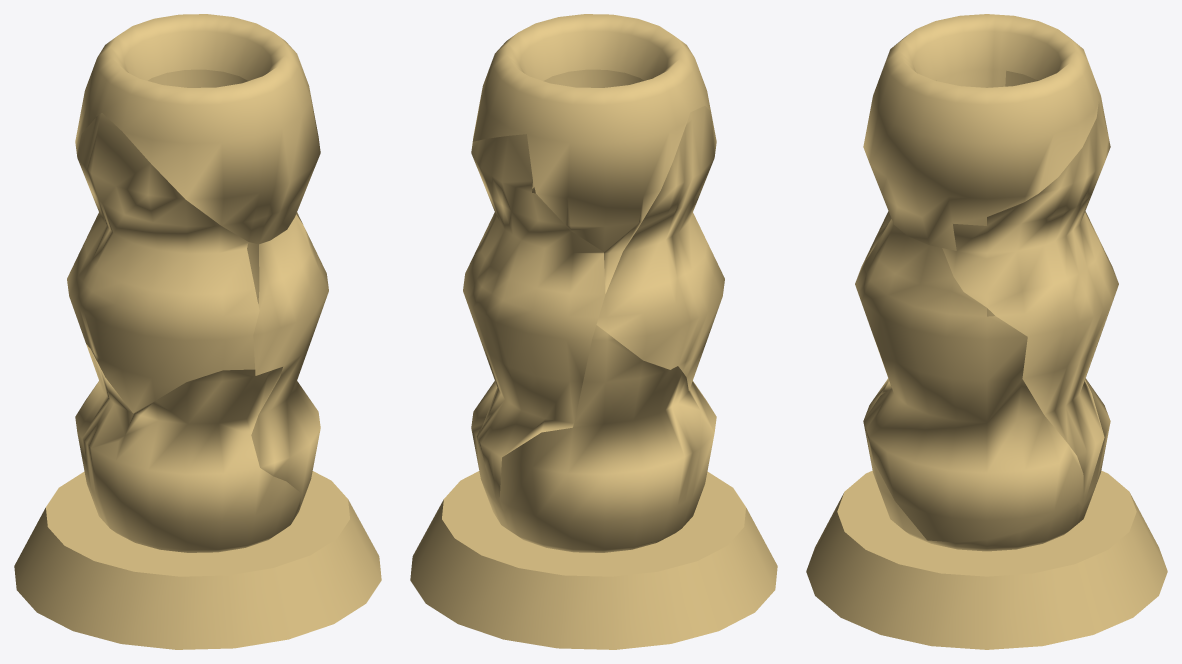
File: Pottery1_broken.fbx
3 renders of one model, left to right at view 1: azimuth 30°, elevation 25°; view 2: azimuth 150°, elevation 25°; view 3: azimuth 270°, elevation 25°, orthographic.
Parts seen in each view (by area): view 1: pCylinder1.006, pCylinder1.001, pCylinder1.004, pCylinder1, pCylinder1.003, pCylinder1.005; view 2: pCylinder1.006, pCylinder1.001, pCylinder1, pCylinder1.002, pCylinder1.004, pCylinder1.007, pCylinder1.003; view 3: pCylinder1.003, pCylinder1.001, pCylinder1.006, pCylinder1.002, pCylinder1.
Boxes of the visible parts, x1=… form: pCylinder1.006: x1=14, y1=471, x2=381, y2=649; pCylinder1.001: x1=75, y1=14, x2=320, y2=244; pCylinder1.004: x1=67, y1=113, x2=259, y2=413; pCylinder1: x1=75, y1=344, x2=301, y2=552; pCylinder1.003: x1=251, y1=214, x2=328, y2=510; pCylinder1.005: x1=148, y1=69, x2=244, y2=87; pCylinder1.006: x1=410, y1=471, x2=777, y2=649; pCylinder1.001: x1=472, y1=14, x2=710, y2=293; pCylinder1: x1=485, y1=325, x2=716, y2=552; pCylinder1.002: x1=463, y1=134, x2=605, y2=511; pCylinder1.004: x1=596, y1=106, x2=724, y2=390; pCylinder1.007: x1=543, y1=69, x2=643, y2=87; pCylinder1.003: x1=471, y1=187, x2=535, y2=511; pCylinder1.003: x1=855, y1=219, x2=1083, y2=542; pCylinder1.001: x1=863, y1=14, x2=1107, y2=250; pCylinder1.006: x1=806, y1=470, x2=1167, y2=649; pCylinder1.002: x1=942, y1=101, x2=1118, y2=505; pCylinder1: x1=863, y1=341, x2=1110, y2=551.
Bounding box in the file's own units: 13315 × 20606 × 12976.
